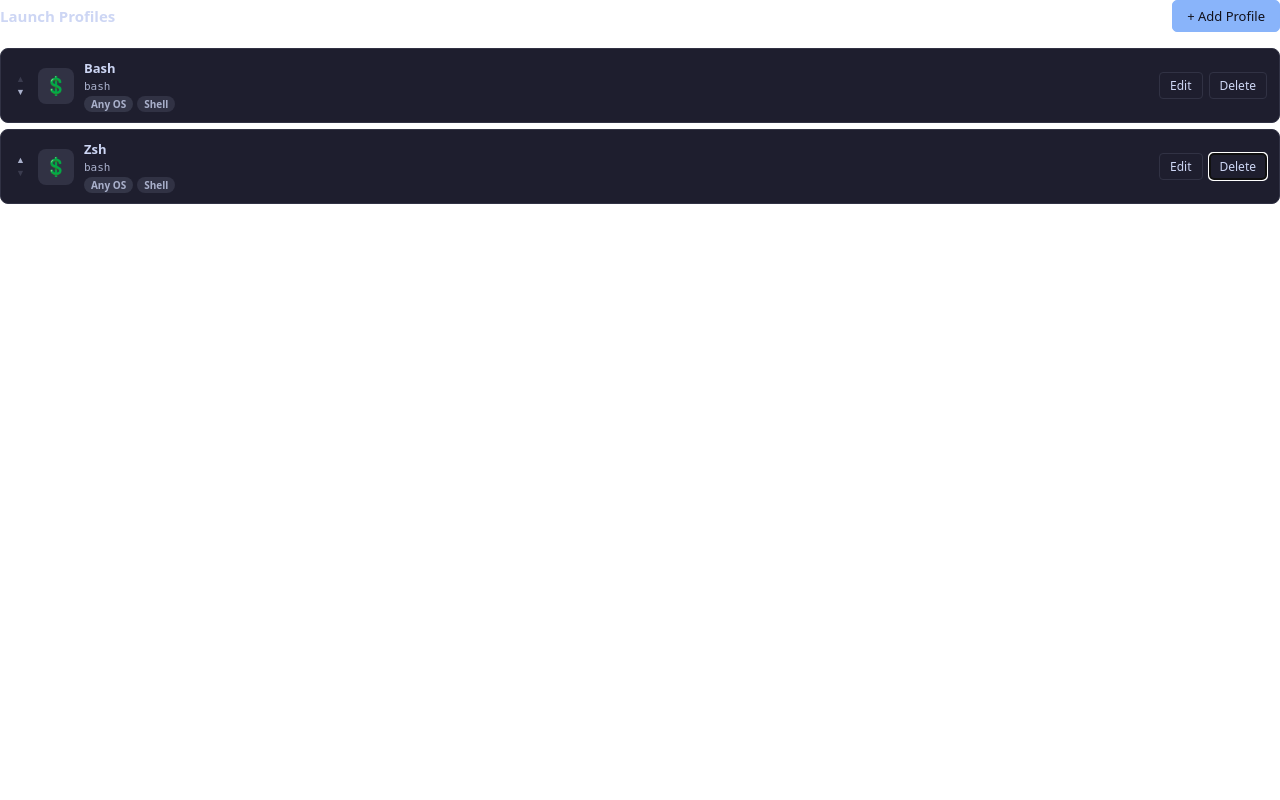
it: Deleting a profile › gives the keyboard to the list once the profile is gone with its button
Step 1. Click the button with aria-label "Delete profile" → (1238, 166), box [1208,153,1267,180]
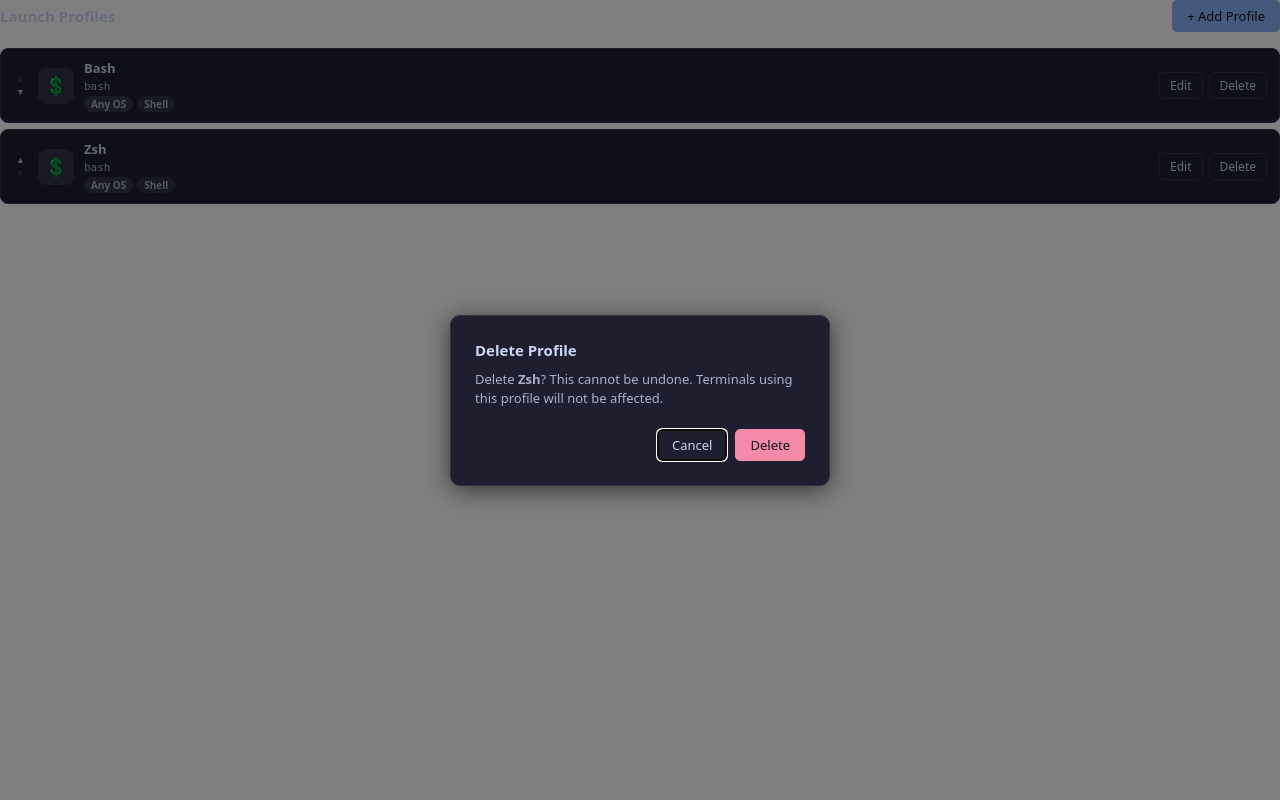
Step 2. Click the button with class "btn-danger" → (770, 444), box [736,428,805,460]
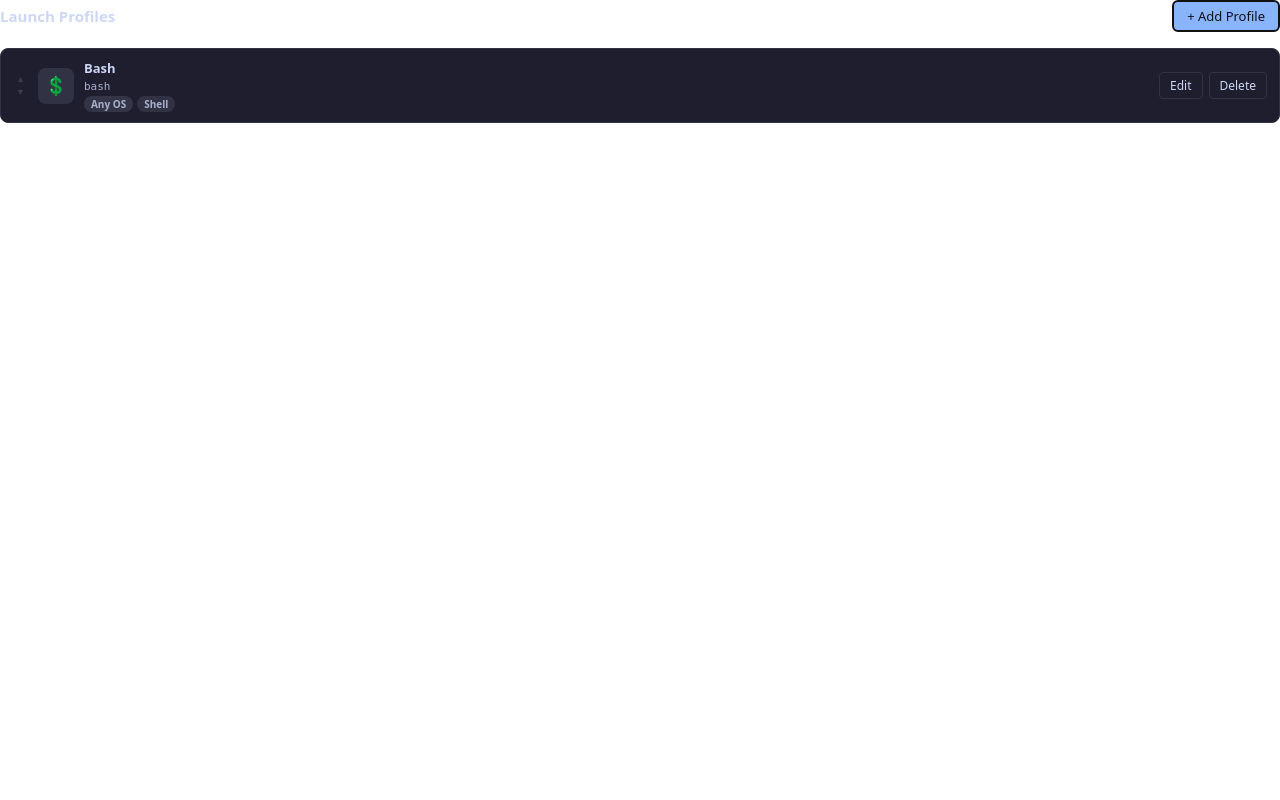
Expected: the dialog is gone
